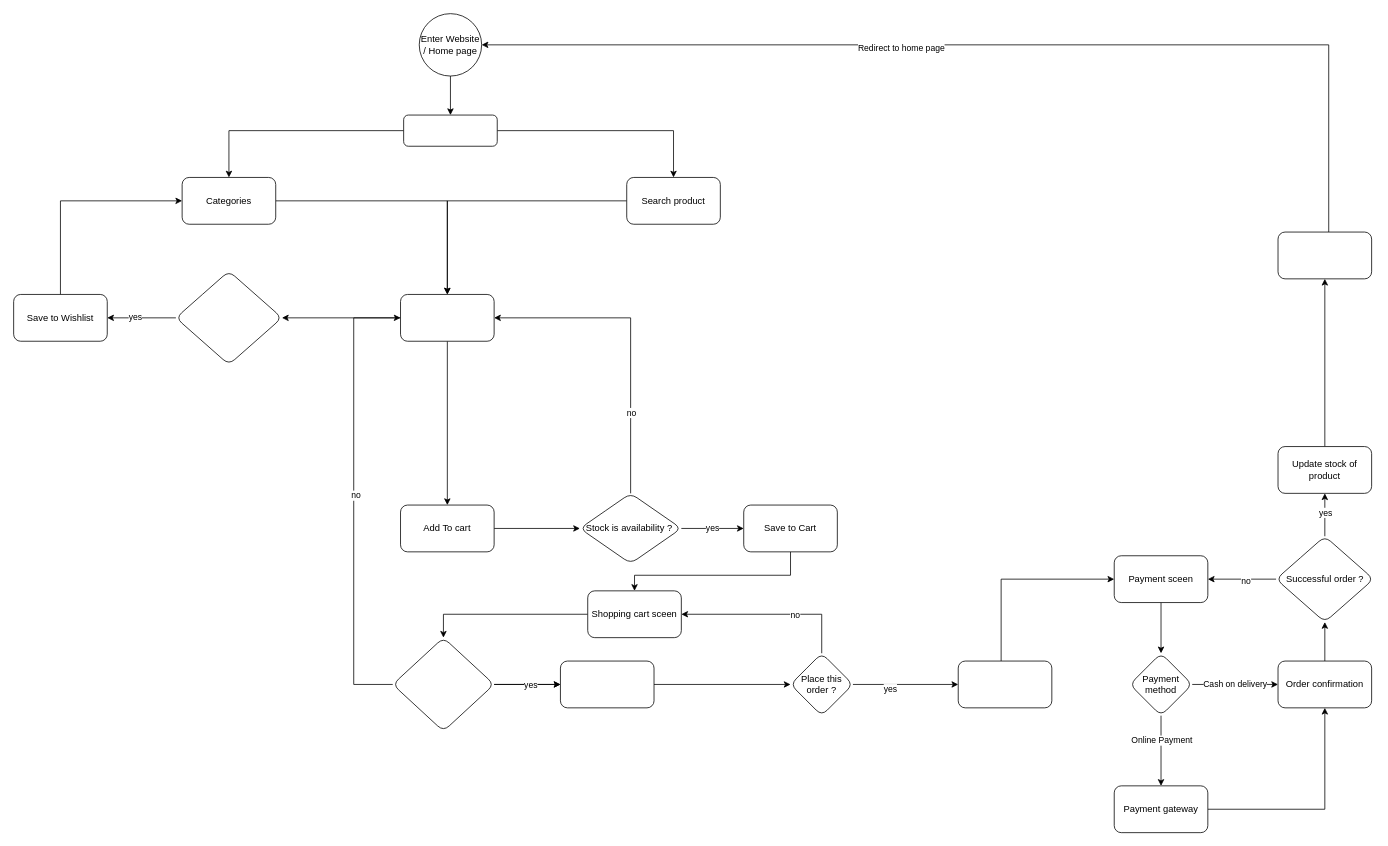
Image size: 1388x846. Some labels were removed from this diagram. The centre of each missing label's shape, as x and y in pixels:
"Add to wishlist ?" goes at (x=228, y=317).
"Confirm checkout ?" goes at (x=443, y=684).
"Create Order, OrderItem" goes at (x=607, y=684).
"Delete Cart , Create Payment linked to Order" goes at (x=1004, y=684).
"Go to product list" goes at (x=450, y=130).
"Order tracking" goes at (x=1324, y=255).
"Product" goes at (x=447, y=317).
